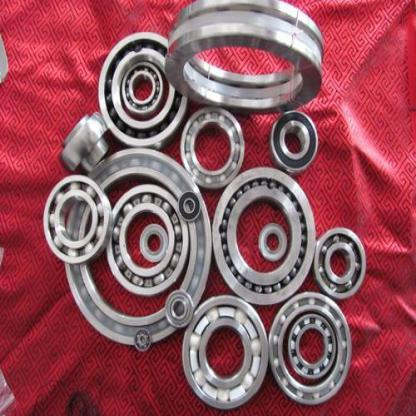FOD: (65, 147, 213, 349), (211, 163, 316, 306), (96, 27, 190, 148), (179, 294, 270, 410), (105, 180, 190, 298), (268, 290, 353, 408), (40, 175, 112, 264), (178, 104, 245, 190), (313, 225, 368, 302), (269, 108, 319, 174), (163, 287, 195, 329), (177, 189, 202, 225)
